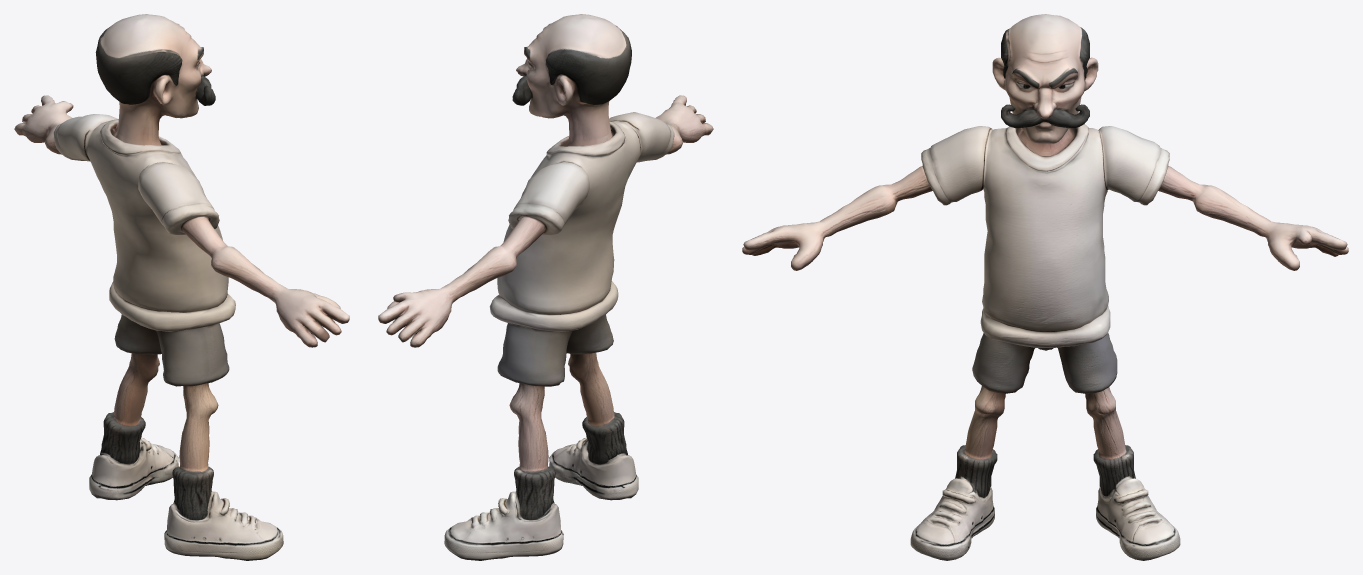
3 renders of one model, left to right at view 1: azimuth 30°, elevation 25°; view 2: azimuth 150°, elevation 25°; view 3: azimuth 270°, elevation 25°, orthographic.
Parts seen in each view (by area): view 1: tripo_node_7cc0ebbf; view 2: tripo_node_7cc0ebbf; view 3: tripo_node_7cc0ebbf.
Part boxes in pixels (x1=…): tripo_node_7cc0ebbf: x1=14, y1=14, x2=349, y2=560; tripo_node_7cc0ebbf: x1=378, y1=14, x2=713, y2=560; tripo_node_7cc0ebbf: x1=742, y1=14, x2=1348, y2=560.
Size of the model in its own units: 0.2348 by 0.9159 by 1.
Materials: 1 (1 with a texture image).
